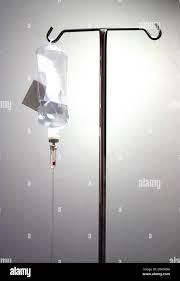Iv_Bottle: (36, 43, 68, 168), (36, 43, 68, 133)
Syringe: (49, 138, 58, 168)
